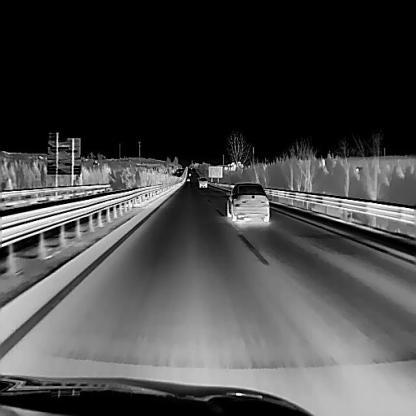car: (225, 181, 269, 221), (198, 175, 207, 187)
